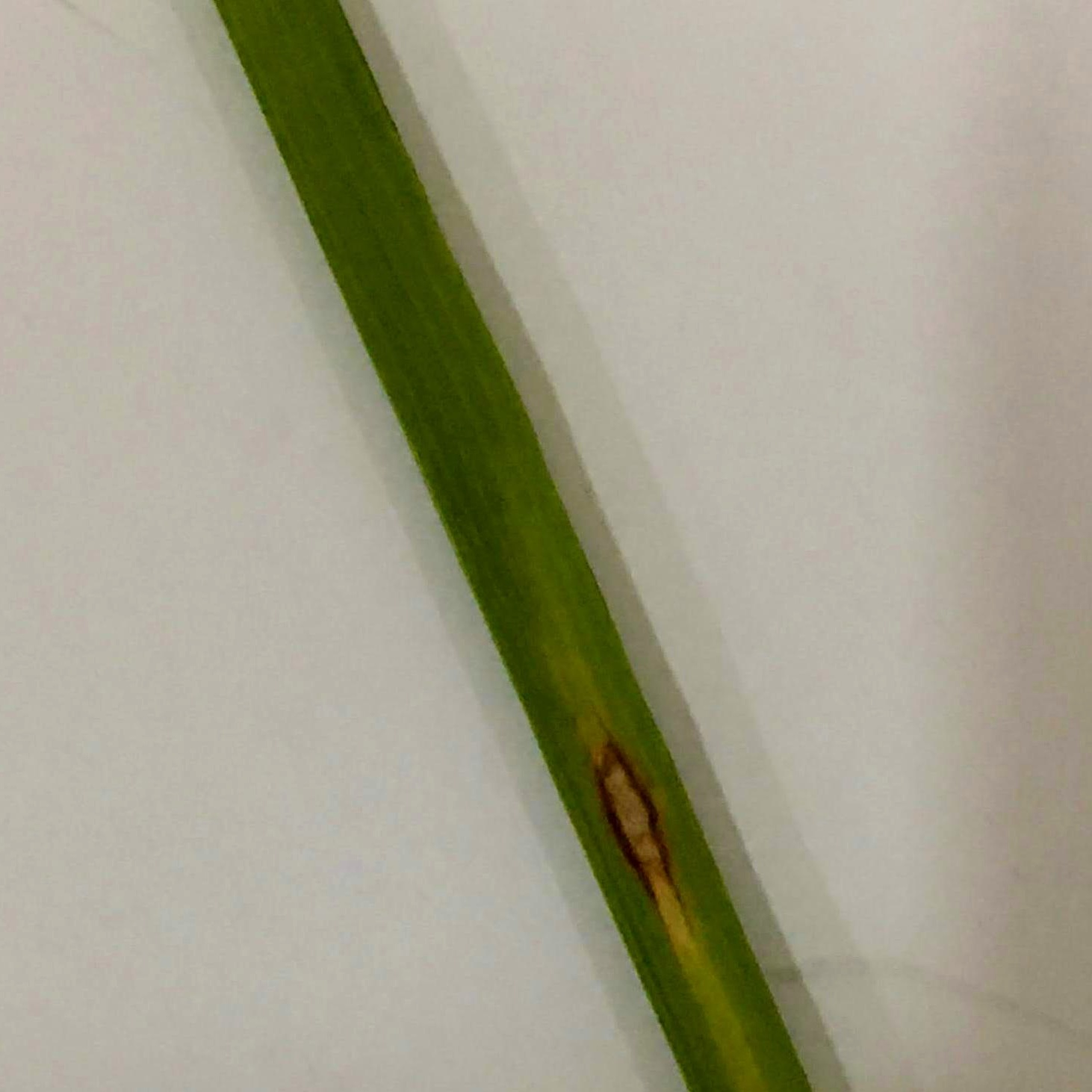Brown_Spot: (578, 725, 693, 910)
